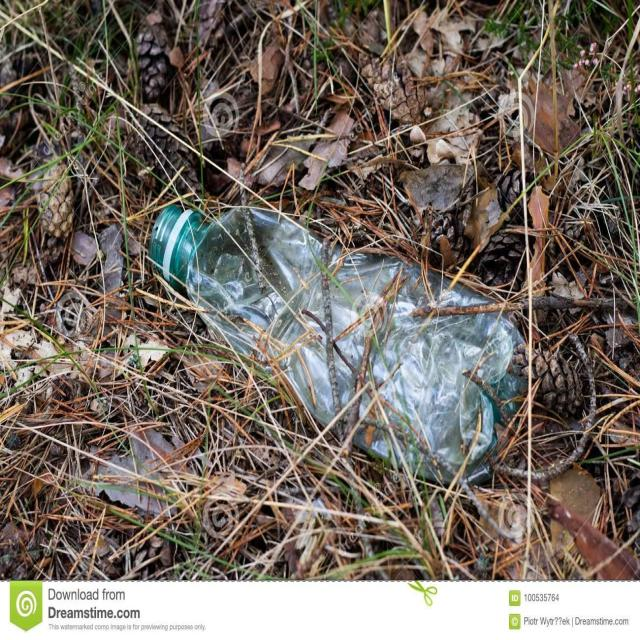bottle: (144, 170, 536, 532)
